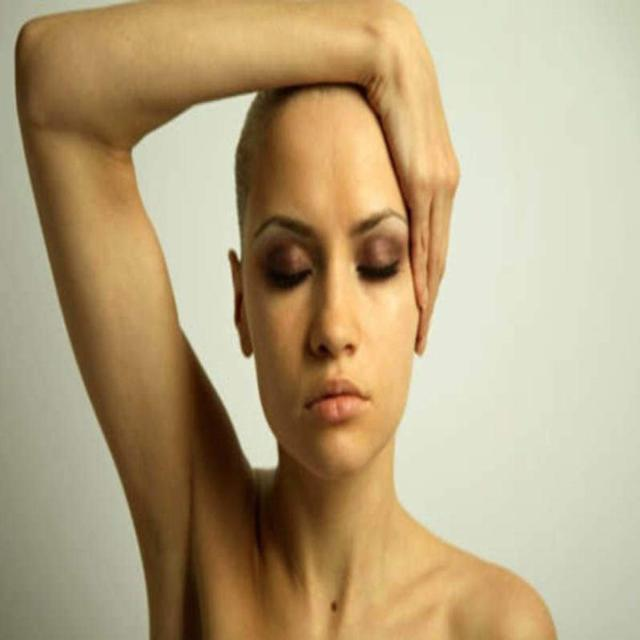no_helmet: (206, 34, 445, 302)
